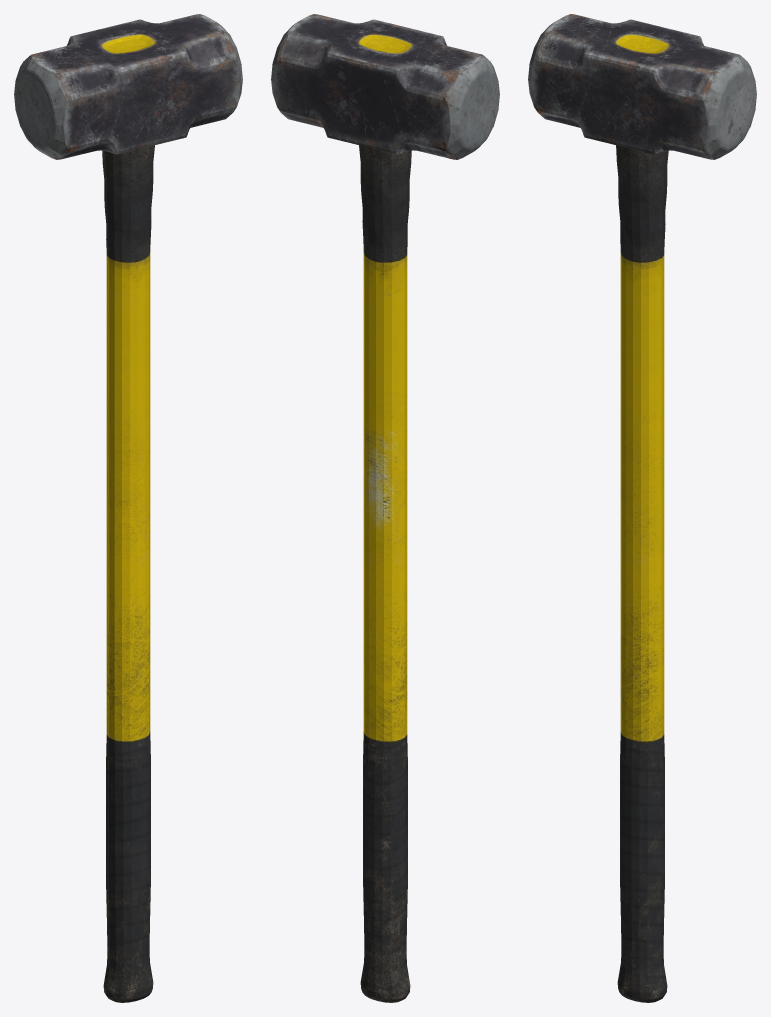
Rendered from Sledgehammer.obj.
3 views of the same model, side by side, from view 1: azimuth 30°, elevation 25°; view 2: azimuth 150°, elevation 25°; view 3: azimuth 330°, elevation 25° (orthographic).
Parts seen in each view (by area): view 1: Cube_008; view 2: Cube_008; view 3: Cube_008.
Boxes of the visible parts, x1=… form: Cube_008: x1=14, y1=14, x2=242, y2=1002; Cube_008: x1=271, y1=14, x2=499, y2=1002; Cube_008: x1=528, y1=14, x2=756, y2=1002.
Size of the model in its own units: 0.2084 by 1.01 by 0.0904.
Materials: 1 (1 with a texture image).
